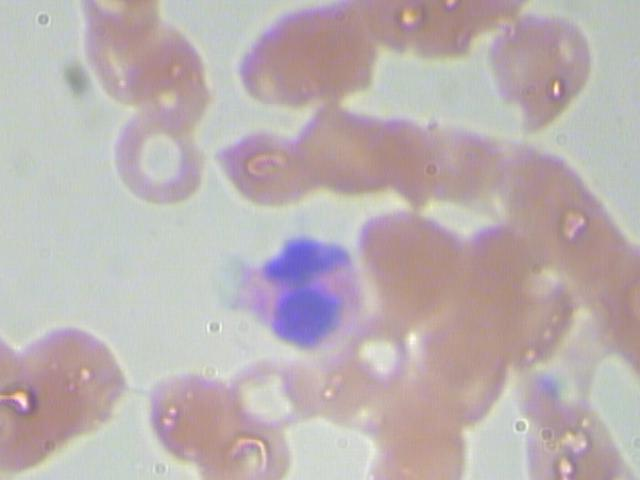RBC: (230, 1, 378, 111), (482, 12, 603, 137), (14, 323, 133, 436), (294, 99, 403, 205), (119, 18, 220, 129), (100, 111, 210, 205), (358, 204, 469, 297), (145, 366, 247, 457), (210, 121, 311, 212), (224, 350, 323, 429), (336, 312, 415, 395)
WBC: (230, 236, 366, 355)
